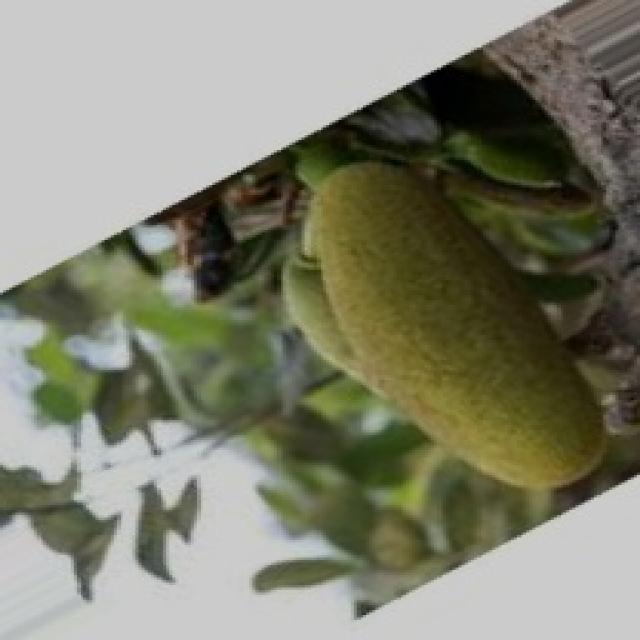Fruit: (246, 118, 640, 518)
